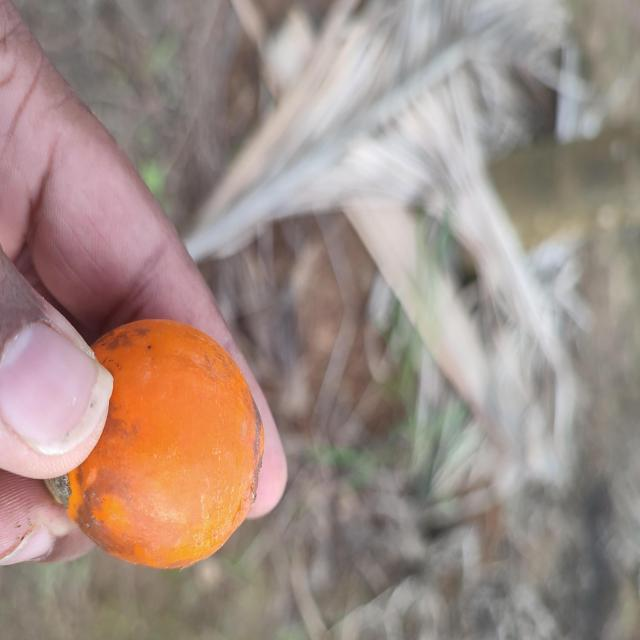good: (43, 320, 264, 571)
